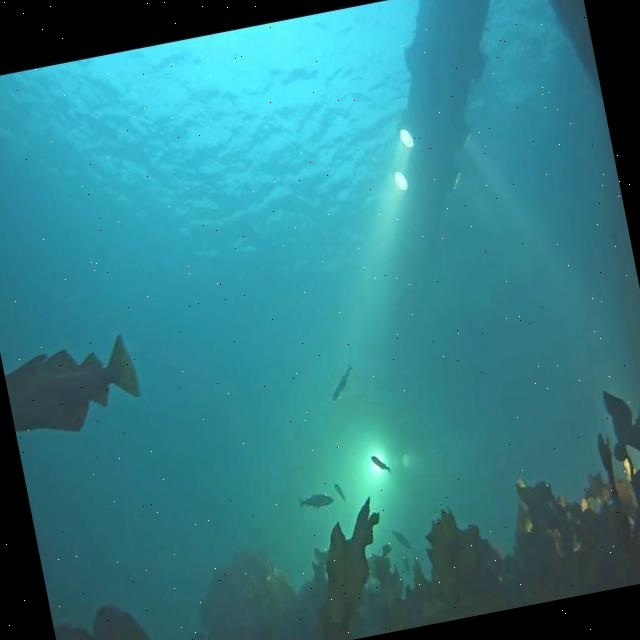fish: (2, 332, 148, 443), (325, 358, 360, 402), (296, 491, 335, 512), (371, 453, 391, 478), (392, 527, 411, 549), (334, 484, 346, 505)
